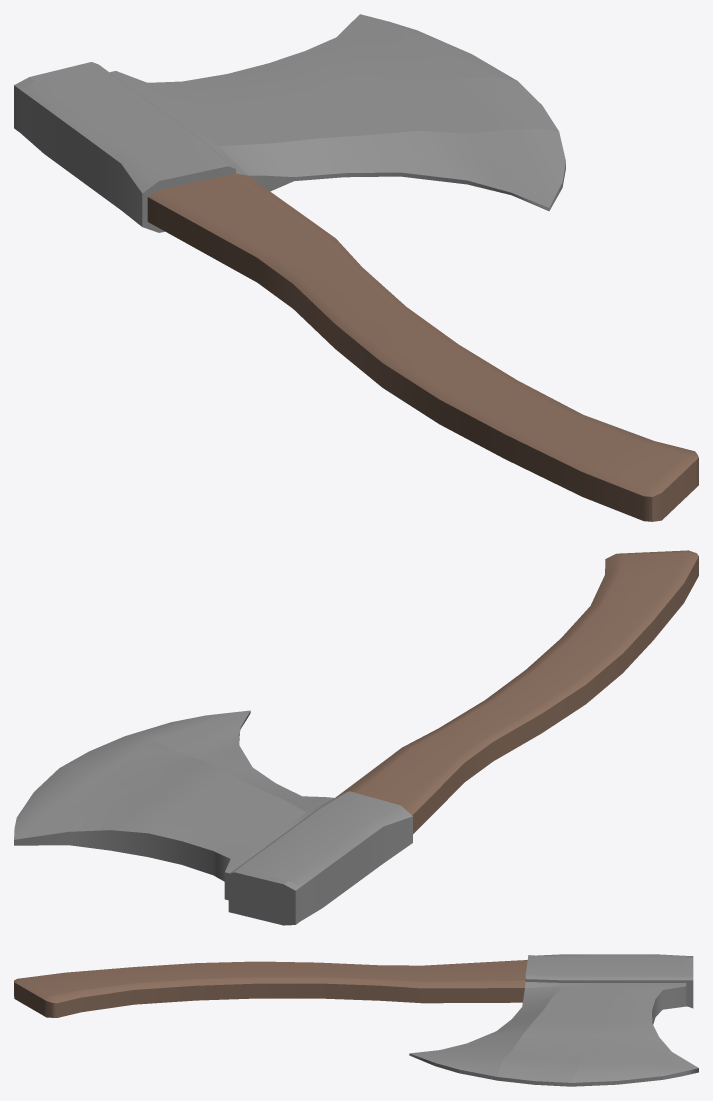
File: axe01.fbx
The picture shows the model from 3 angles, top to bottom: view 1: azimuth 30°, elevation 25°; view 2: azimuth 150°, elevation 25°; view 3: azimuth 270°, elevation 25°; orthographic projection. The views are drawn at different scales.
Visible parts, largest first — view 1: axe; view 2: axe; view 3: axe.
Boxes of the visible parts, box(x1,y1,x2,y2) form: axe: box(14, 14, 698, 521); axe: box(14, 550, 698, 925); axe: box(14, 954, 698, 1086).
Size of the model in its own units: 3.6 by 0.4359 by 8.76.
